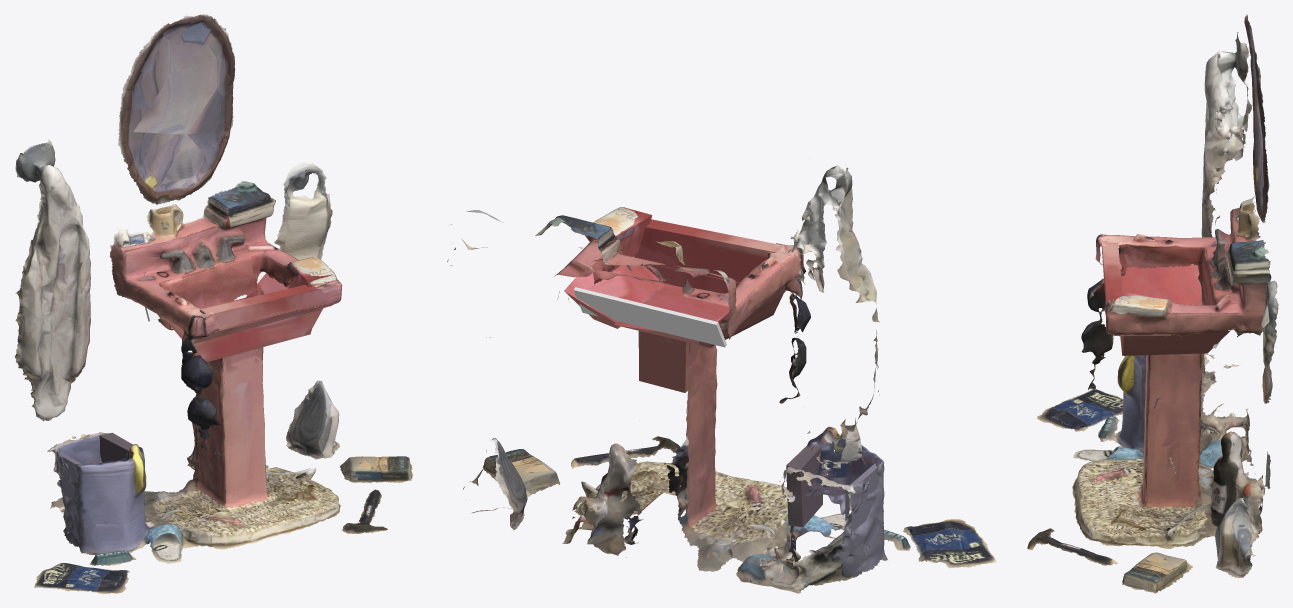
Rendered from kristina2.glb.
3 renders of one model, left to right at view 1: azimuth 30°, elevation 25°; view 2: azimuth 150°, elevation 25°; view 3: azimuth 270°, elevation 25°, orthographic. The views are drawn at different scales.
Parts seen in each view (by area): view 1: mmGroup0, Cube; view 2: mmGroup0, Cube, Cube.001; view 3: mmGroup0, Cube.
Boxes of the visible parts, x1=… form: mmGroup0: x1=15, y1=14, x2=413, y2=593; Cube: x1=57, y1=263, x2=338, y2=498; mmGroup0: x1=447, y1=165, x2=996, y2=593; Cube: x1=564, y1=207, x2=878, y2=532; Cube.001: x1=573, y1=287, x2=726, y2=347; mmGroup0: x1=1027, y1=14, x2=1278, y2=593; Cube: x1=1102, y1=242, x2=1230, y2=400.
Size of the model in its own units: 16.96 by 18.45 by 8.73.
Materials: 3 (2 with a texture image).
